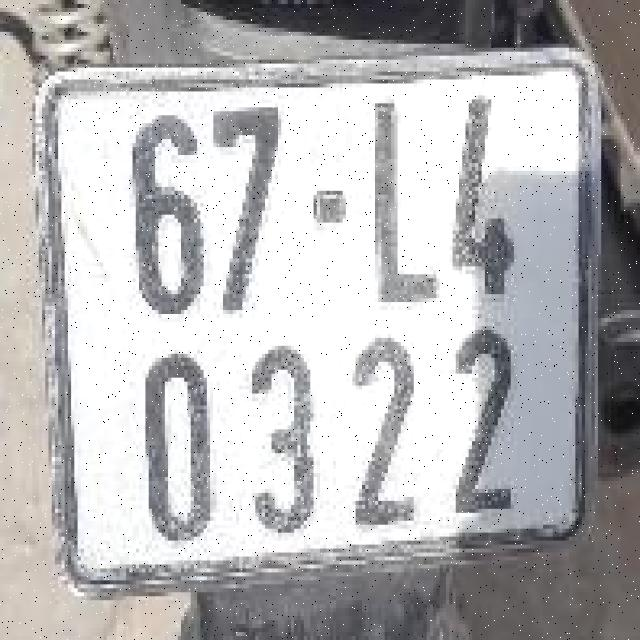0: (131, 340, 221, 554)
2: (336, 314, 424, 541), (444, 314, 528, 533)
3: (237, 340, 325, 542)
4: (454, 82, 522, 316)
6: (120, 101, 216, 316)
7: (206, 85, 290, 328)
L: (356, 85, 446, 316)
